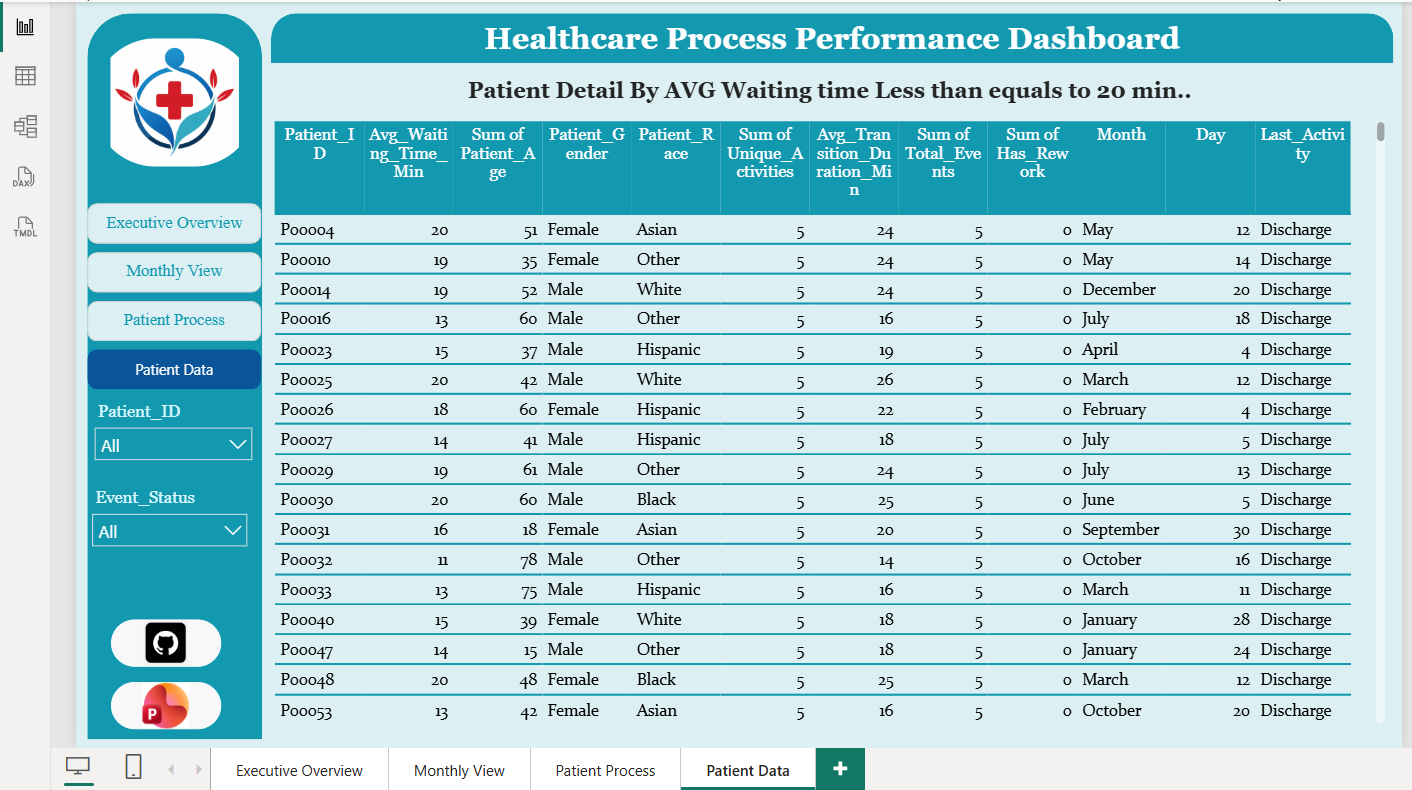

The dashboard page shown, as its layout file describes it:
{"tool":"powerbi","page":{"name":"Patient Data","canvas":[1280,720],"ordinal":3},"visuals":[{"type":"shape","box":[10.9,10.9,168.9,700.9],"z":0},{"type":"image","box":[15.7,35,159.3,124.3],"z":1000},{"type":"shape","box":[188.2,10.9,1083.4,48.3],"z":2000},{"type":"tableEx","title":"Patient Detail By AVG Waiting time Less than equals to 20 min..","fields":{"Values":["mart_case_summary.Patient_ID","mart_case_summary.Avg_Waiting_Time_Min","Sum(mart_case_summary.Patient_Age)","mart_case_summary.Patient_Gender","mart_case_summary.Patient_Race","Sum(mart_case_summary.Unique_Activities)","mart_case_summary.Avg_Transition_Duration_Min","Sum(mart_case_summary.Total_Events)","Sum(mart_case_summary.Has_Rework)","mart_case_summary.Case_End_Timestamp.Variation.Date Hierarchy.Month","mart_case_summary.Case_End_Timestamp.Variation.Date Hierarchy.Day","mart_case_summary.Last_Activity"]},"box":[174.9,59.1,1105.1,652.7],"z":3000},{"type":"pageNavigator","box":[10.9,194.2,168.9,182.2],"z":3001},{"type":"slicer","fields":{"Values":["mart_case_summary.Patient_ID"]},"box":[13.3,386.1,161.7,61.5],"z":3002},{"type":"slicer","fields":{"Values":["mart_case_summary.Event_Status_Summary"]},"box":[10.9,469.3,159.3,61.5],"z":3003},{"type":"image","title":"Github","box":[33.8,596,106.2,45.8],"z":3005},{"type":"image","title":"Github","box":[33.8,656.3,106.2,45.8],"z":3006}]}

Visuals, with their boxes on the page's 1280x720 design canvas (x1, y1, x2, y2). These are canvas units, not pixel positions in the 1412x790 screenshot, which may show the page scaled, cropped or inside an application window:
shape: 11 11 180 712
image: 16 35 175 159
shape: 188 11 1272 59
"Patient Detail By AVG Waiting time Less than equals to 20 min.." tableEx: 175 59 1280 712
pageNavigator: 11 194 180 376
slicer - mart_case_summary.Patient_ID: 13 386 175 448
slicer - mart_case_summary.Event_Status_Summary: 11 469 170 531
"Github" image: 34 596 140 642
"Github" image: 34 656 140 702
